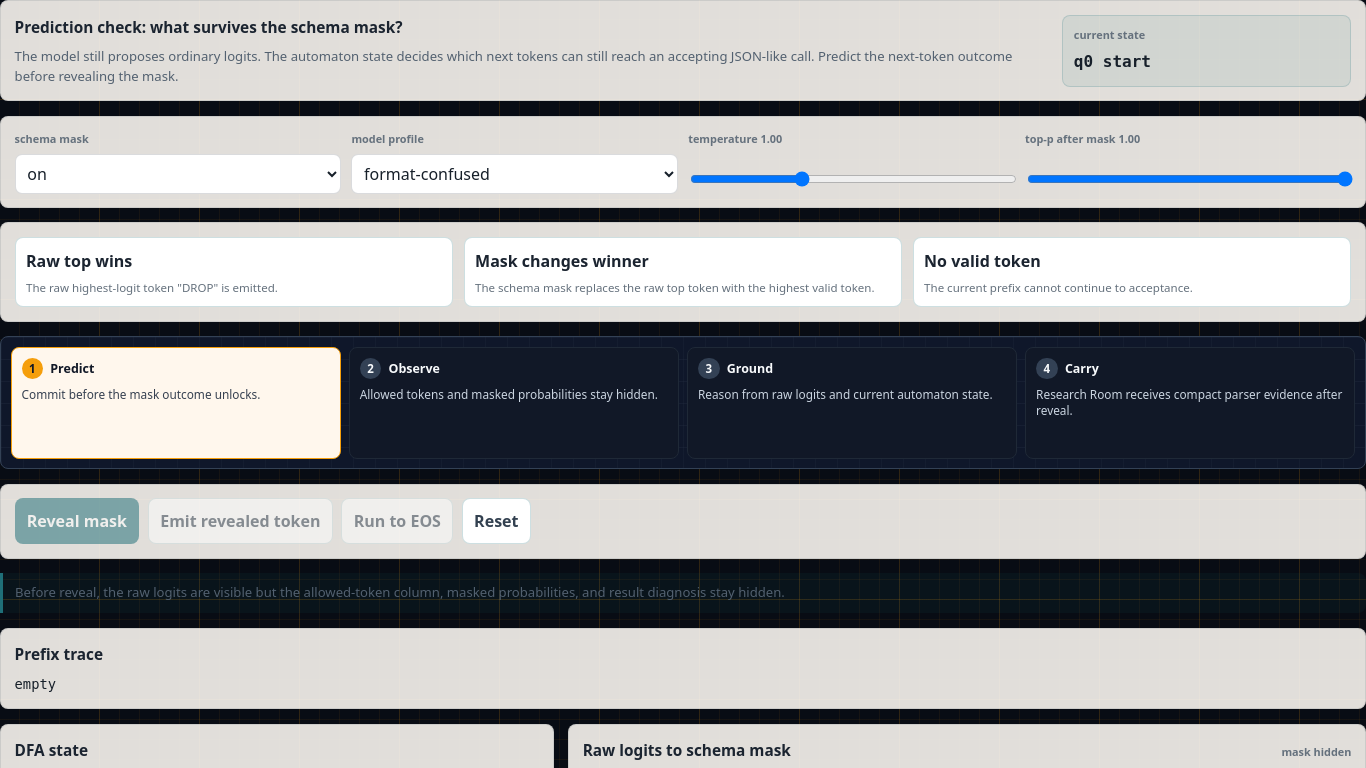
StructuredDecodingViz valid-token mask reveal › reveals the same masked answer after a wrong raw-top prediction
What coordinates should you click on to do the following:
click the button "Raw top wins The raw highest-logit token \"DROP\" is emitted."
I would click on:
 (79, 261)
Its box is [15,237,453,307].
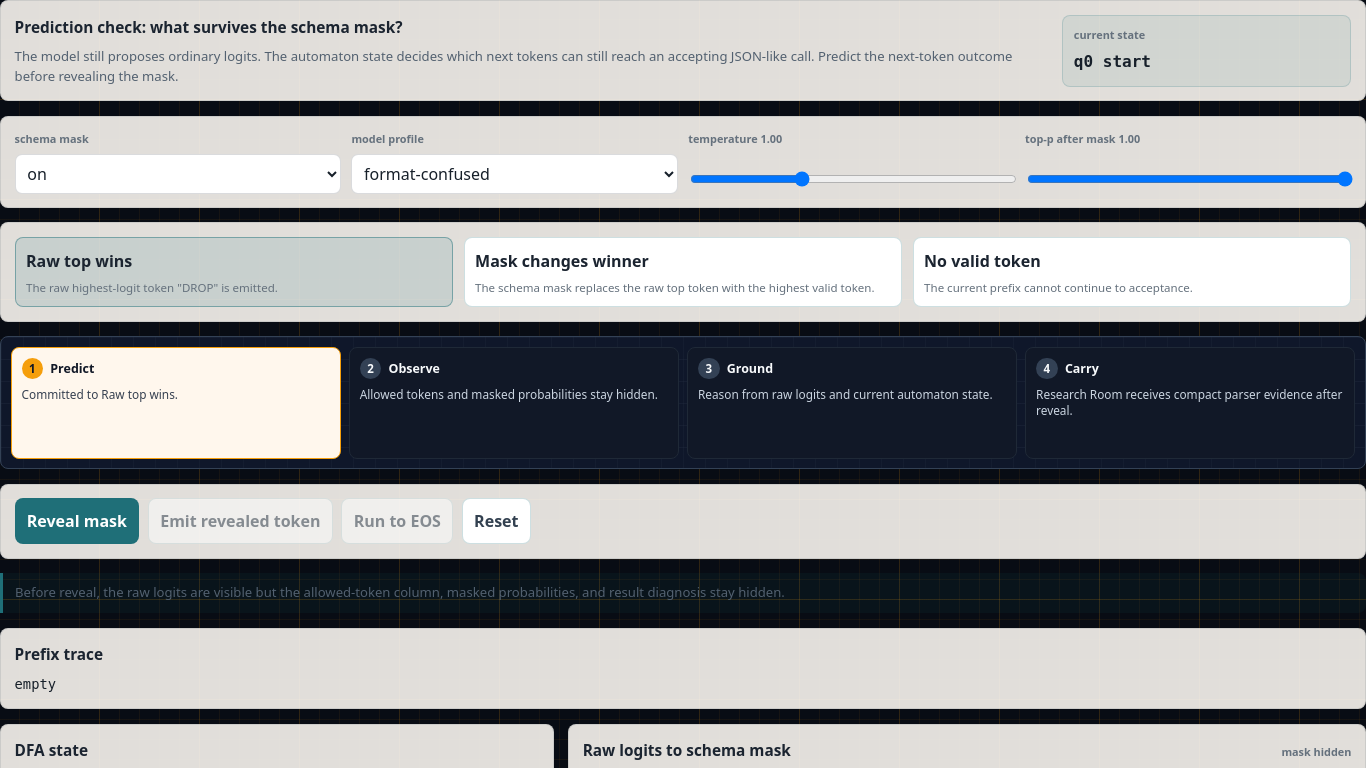
What coordinates should you click on to do the following:
click the button "Reveal mask"
I would click on:
 (77, 521)
Its box is [15,498,139,544].
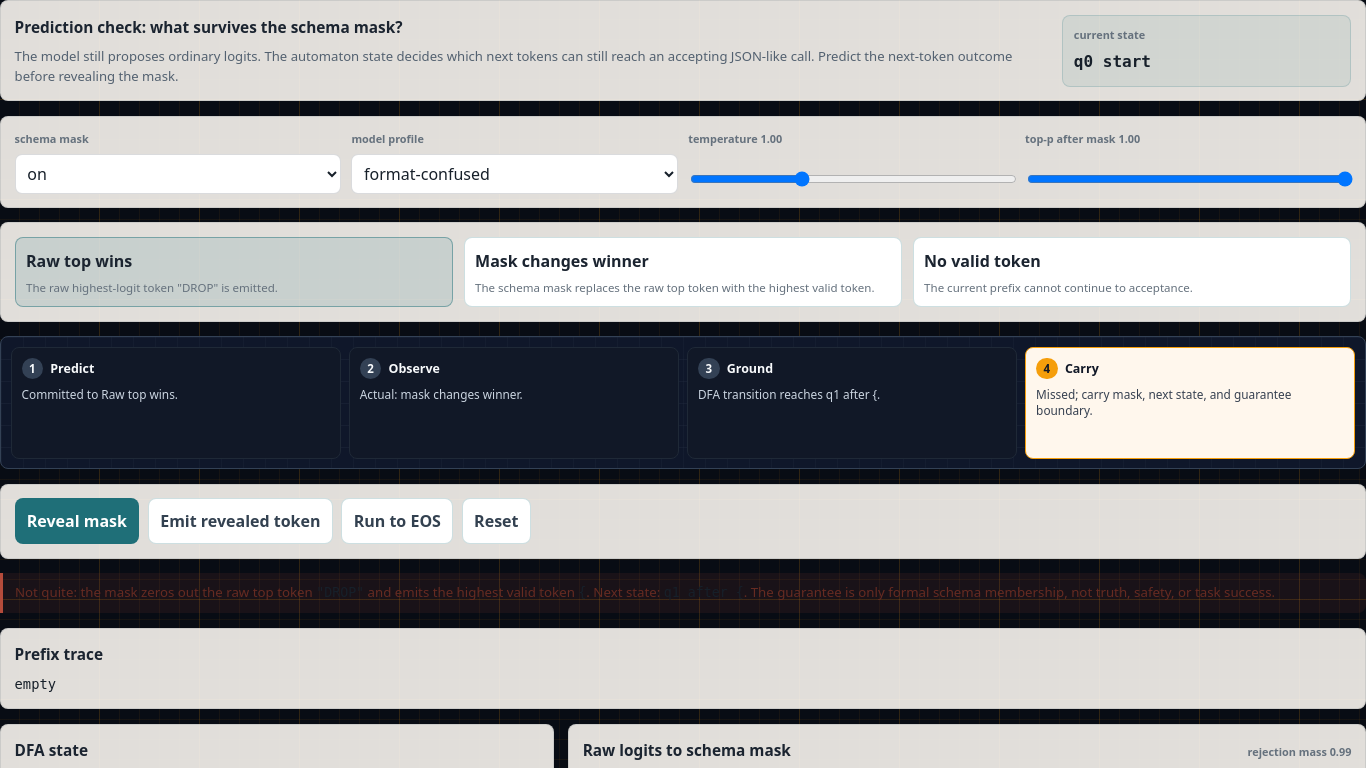
Expected: the text "Not quite:" is shown, [15,583,80,601]
